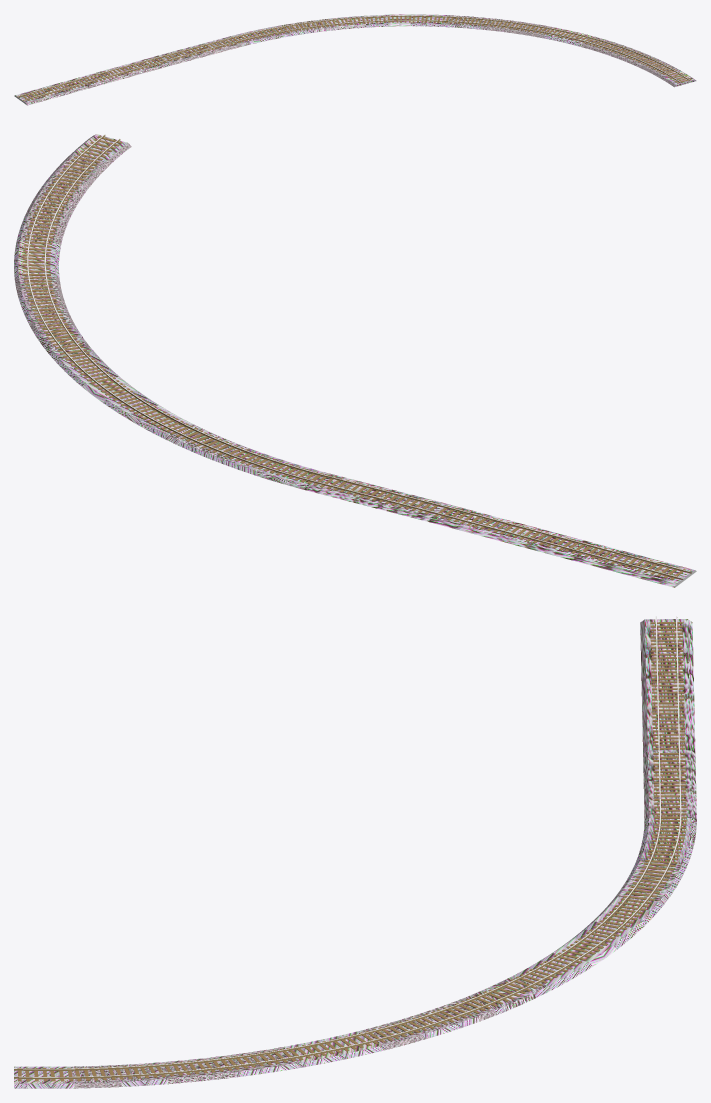
File: GMLID_55518178_9051_1323.gltf
3 renders of one model, top to bottom at view 1: azimuth 30°, elevation 25°; view 2: azimuth 150°, elevation 25°; view 3: azimuth 270°, elevation 25°, orthographic. The views are drawn at different scales.
Parts seen in each view (by area): view 1: Z_UP; view 2: Z_UP; view 3: Z_UP.
Part boxes in pixels (x1=…): Z_UP: x1=14, y1=14, x2=696, y2=105; Z_UP: x1=14, y1=134, x2=696, y2=587; Z_UP: x1=14, y1=616, x2=696, y2=1088.
Size of the model in its own units: 118 by 3.9 by 68.76.
Materials: 5 (1 with a texture image).
